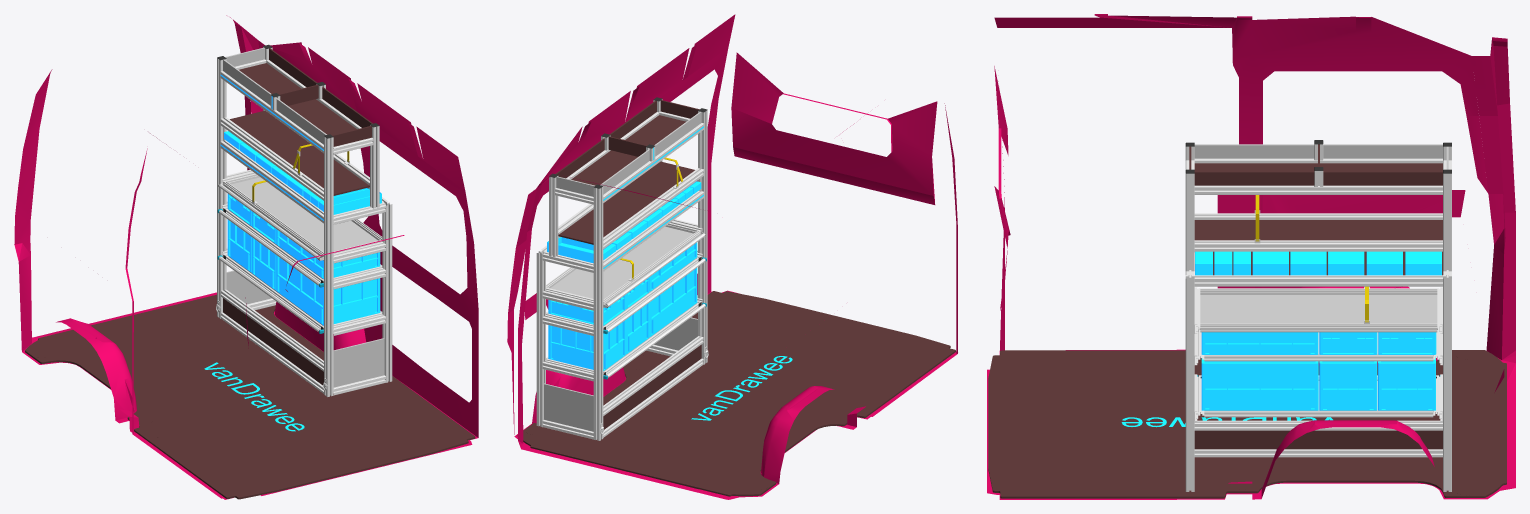
Rendered from vd_export_regalova_vestavba_mercedes_sprinter_l1h2_4c0c1643.glb.
The picture shows the model from 3 angles, left to right: view 1: azimuth 30°, elevation 25°; view 2: azimuth 150°, elevation 25°; view 3: azimuth 270°, elevation 25°; orthographic projection. The views are drawn at different scales.
Visible parts, largest first — view 1: SomeName041_Mesh_14006, SomeName_Mesh_0008_(1), blue_klt (×2), PR10_1266x306 (×2), 45x45x1750_noha (×2), CUB6_1215x413, CUB10_395x260 (×2), 45x45x1267_Zx2_2 (×2), 45x45x369_Zx2_2 (×4), Multibox_Arc, 45x45x1200_noha, trubka25 (×3) (+13 smaller); view 2: SomeName041_Mesh_14006, SomeName_Mesh_0008_(1), blue_klt (×2), PR10_1266x306 (×2), 45x45x1750_noha (×2), CUB6_1215x413, CUB10_395x260 (×2), 45x45x1267_Zx2_2 (×2), Multibox_Arc, 45x45x369_Zx2 (×3), 45x45x1200_noha, trubka25 (×3) (+14 smaller); view 3: SomeName041_Mesh_14006, SomeName_Mesh_0008_(1), blue_klt (×2), PR10_1266x306 (×2), CUB6_1215x413, 45x45x1267_Zx2_2 (×3), Multibox_Arc, 45x45x1267_Zx2 (×2), PR10_1291x130, 45x45x1200_noha (×2), 30x30x1168_Zx2 (×2), 20x40x1208_Zx4_2 (+9 smaller).
Part boxes in pixels (x1,y1,x2,y2): SomeName041_Mesh_14006: [25, 294, 475, 499]; SomeName_Mesh_0008_(1): [14, 15, 478, 499]; blue_klt (×2): [227, 194, 380, 325]; PR10_1266x306 (×2): [230, 63, 369, 195]; 45x45x1750_noha (×2): [217, 58, 333, 396]; CUB6_1215x413: [231, 177, 377, 251]; CUB10_395x260 (×2): [226, 270, 384, 387]; 45x45x1267_Zx2_2 (×2): [220, 71, 323, 200]; 45x45x369_Zx2_2 (×4): [333, 203, 385, 335]; Multibox_Arc: [224, 131, 381, 214]; 45x45x1200_noha: [382, 202, 392, 382]; trubka25 (×3): [219, 184, 320, 331]; SomeName041_Mesh_14006: [517, 291, 955, 496]; SomeName_Mesh_0008_(1): [507, 14, 957, 499]; blue_klt (×2): [548, 242, 697, 371]; PR10_1266x306 (×2): [558, 115, 694, 244]; 45x45x1750_noha (×2): [593, 110, 707, 440]; CUB6_1215x413: [550, 226, 693, 299]; CUB10_395x260 (×2): [544, 317, 697, 431]; 45x45x1267_Zx2_2 (×2): [603, 123, 703, 249]; Multibox_Arc: [547, 181, 701, 263]; 45x45x369_Zx2 (×3): [542, 289, 593, 381]; 45x45x1200_noha: [536, 251, 545, 427]; trubka25 (×3): [606, 233, 705, 377]; SomeName041_Mesh_14006: [988, 350, 1506, 498]; SomeName_Mesh_0008_(1): [987, 14, 1515, 499]; blue_klt (×2): [1201, 332, 1436, 410]; PR10_1266x306 (×2): [1194, 163, 1442, 240]; CUB6_1215x413: [1199, 295, 1437, 329]; 45x45x1267_Zx2_2 (×3): [1194, 158, 1442, 286]; Multibox_Arc: [1195, 251, 1441, 275]; 45x45x1267_Zx2 (×2): [1194, 185, 1442, 251]; PR10_1291x130: [1194, 430, 1442, 449]; 45x45x1200_noha (×2): [1185, 276, 1451, 491]; 30x30x1168_Zx2 (×2): [1204, 353, 1433, 417]; 20x40x1208_Zx4_2: [1200, 323, 1437, 332].
Size of the model in its own units: 1812 by 2027 by 2696.
